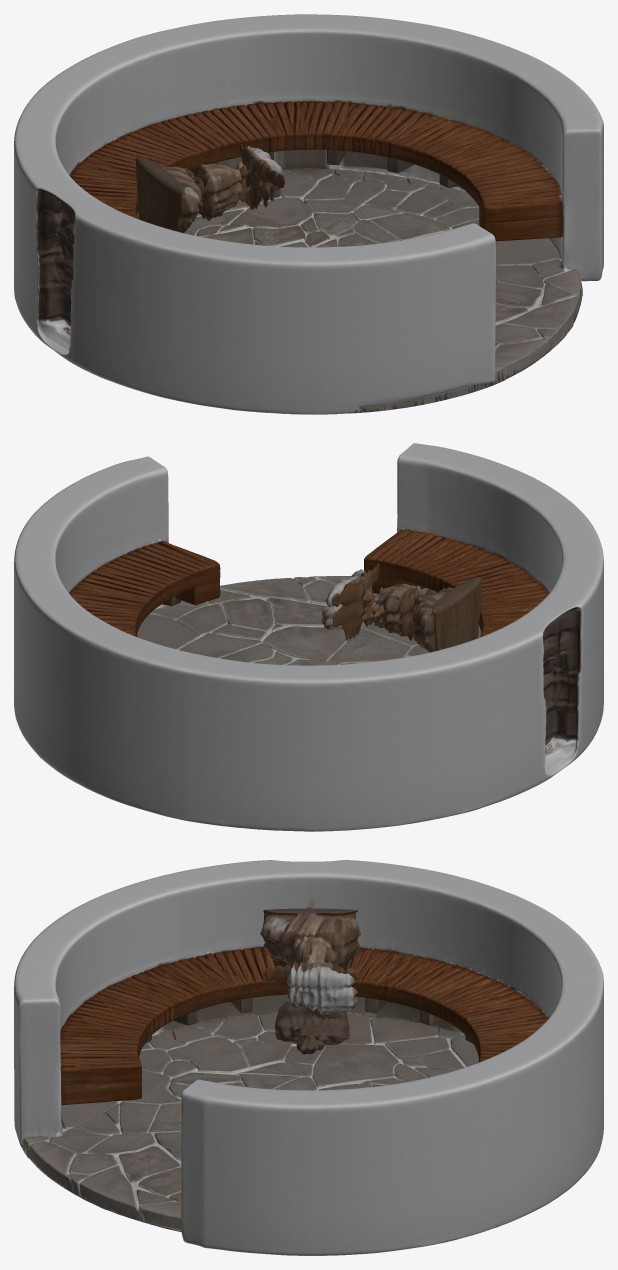
Rendered from seatbowl.glb.
3 renders of one model, top to bottom at view 1: azimuth 30°, elevation 25°; view 2: azimuth 150°, elevation 25°; view 3: azimuth 270°, elevation 25°, orthographic.
Visible parts, largest first — view 1: tripo_node_d350f1d2-0da8-4a9d-b4f4-1c8ba24df5ca; view 2: tripo_node_d350f1d2-0da8-4a9d-b4f4-1c8ba24df5ca; view 3: tripo_node_d350f1d2-0da8-4a9d-b4f4-1c8ba24df5ca.
Boxes of the visible parts, bbox=[...] form: tripo_node_d350f1d2-0da8-4a9d-b4f4-1c8ba24df5ca: bbox=[14, 14, 603, 414]; tripo_node_d350f1d2-0da8-4a9d-b4f4-1c8ba24df5ca: bbox=[14, 443, 603, 831]; tripo_node_d350f1d2-0da8-4a9d-b4f4-1c8ba24df5ca: bbox=[14, 860, 603, 1255].
Size of the model in its own units: 2.82 by 0.8 by 2.83.
Materials: 1 (1 with a texture image).
